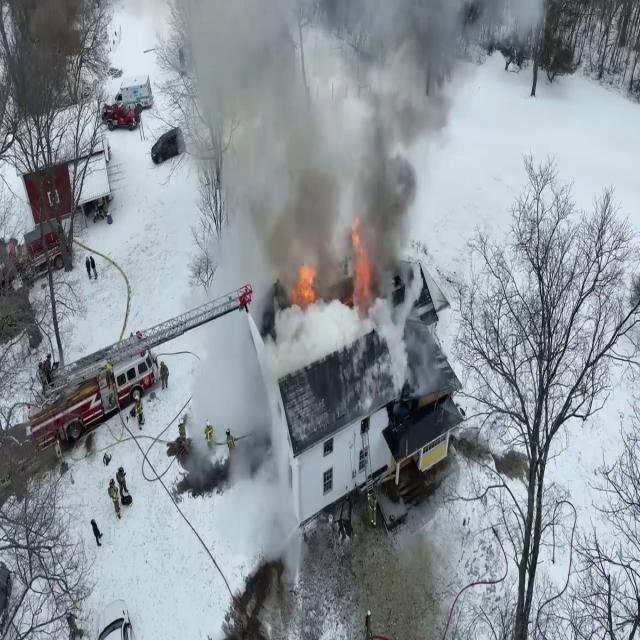Fire: (348, 217, 376, 308), (292, 259, 321, 313)
Smoke: (175, 0, 477, 285)
